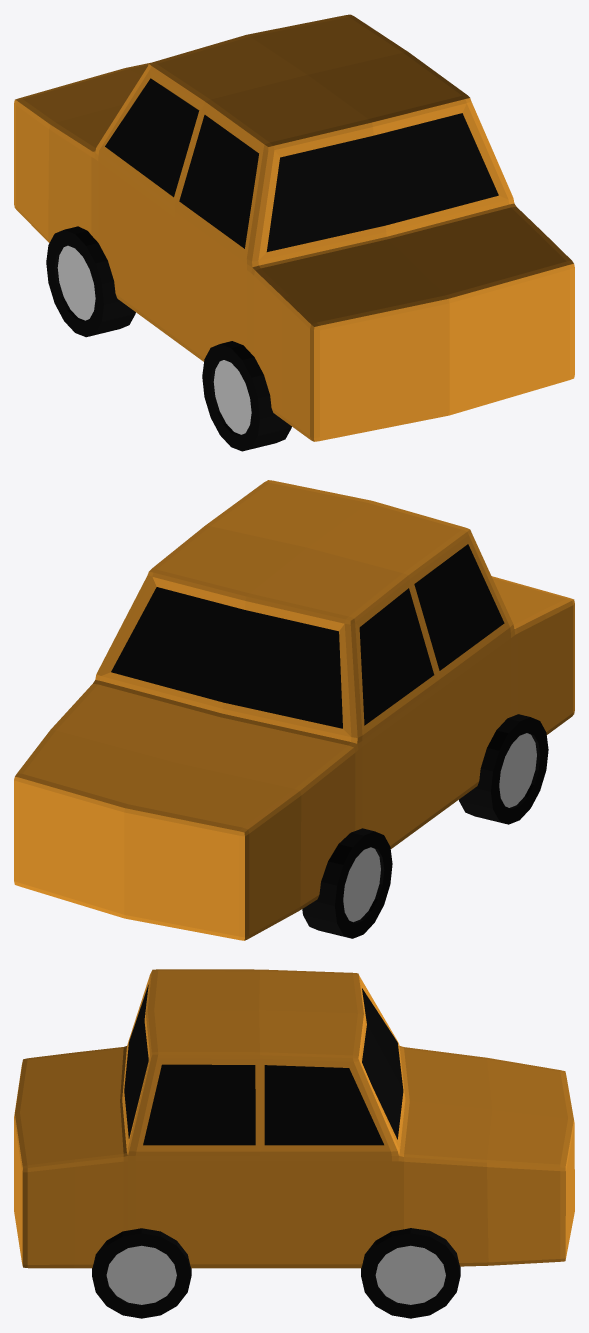
File: Toy Car.fbx
3 renders of one model, top to bottom at view 1: azimuth 30°, elevation 25°; view 2: azimuth 150°, elevation 25°; view 3: azimuth 270°, elevation 25°, orthographic. The views are drawn at different scales.
Visible parts, largest first — view 1: Node 0; view 2: Node 0; view 3: Node 0.
Part boxes in pixels (box(x1,y1,x2,y2)): Node 0: box(14, 14, 574, 451); Node 0: box(14, 480, 574, 940); Node 0: box(14, 969, 574, 1318).
Bounding box in the file's own units: 0.3721 × 0.1814 × 0.1906.
